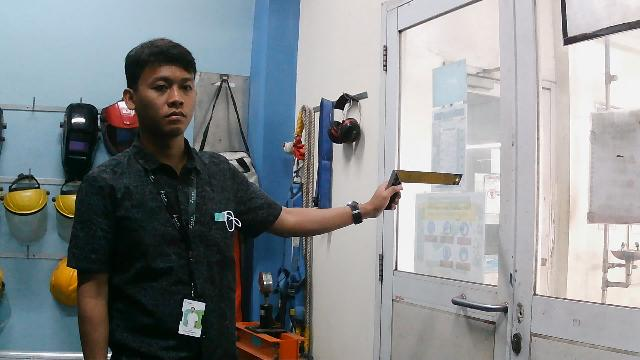penggaris_siku: (375, 164, 466, 212)
